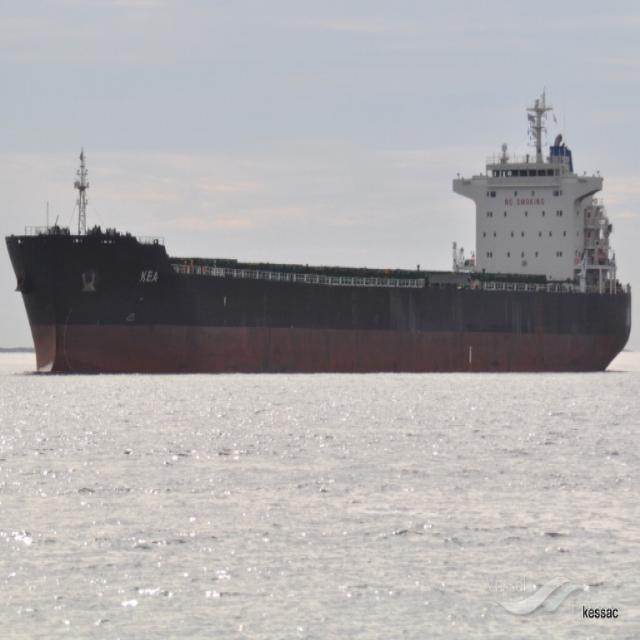OCR: (138, 266, 163, 291)
